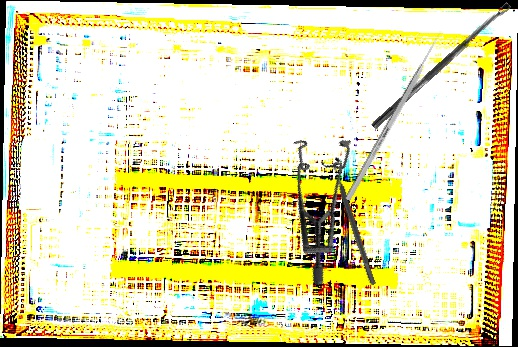Fixation Ring: (320, 155, 383, 289)
Pusher: (344, 29, 445, 202)
Speculum: (234, 115, 399, 287)
Surgical Spoon: (370, 1, 513, 131)
